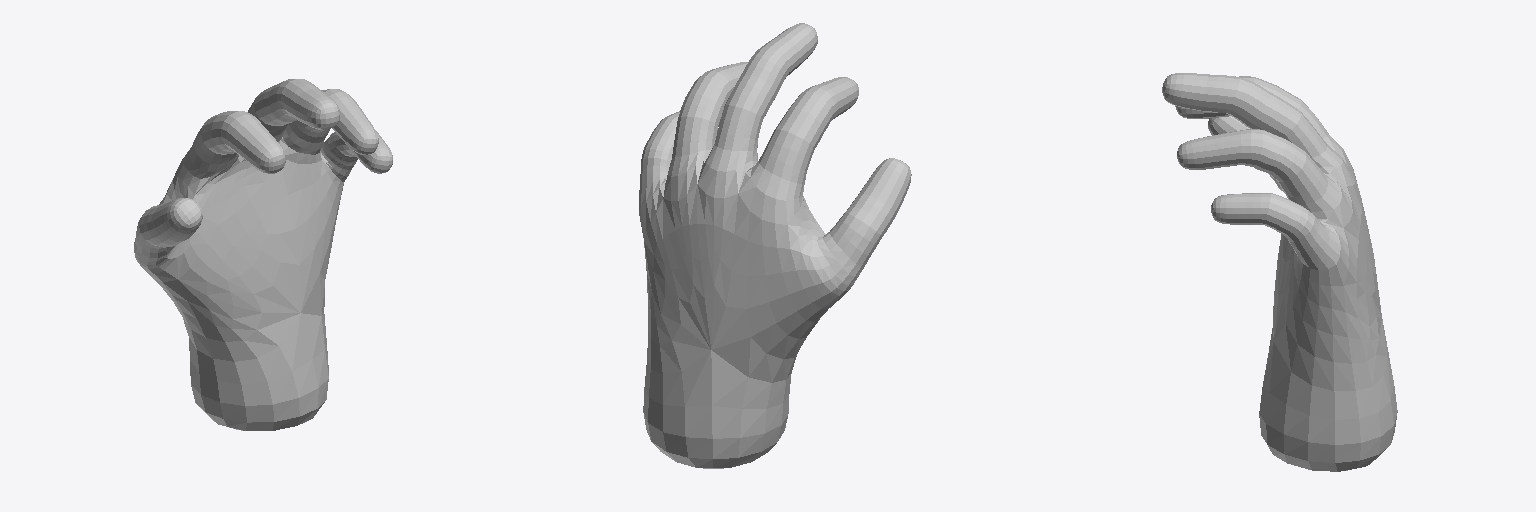
File: handanimatsion25.obj
3 renders of one model, left to right at view 1: azimuth 30°, elevation 25°; view 2: azimuth 150°, elevation 25°; view 3: azimuth 270°, elevation 25°, orthographic.
Parts seen in each view (by area): view 1: Cube; view 2: Cube; view 3: Cube.
Boxes of the visible parts, box(x1,y1,x2,y2) form: Cube: box(134, 79, 392, 430); Cube: box(639, 23, 911, 468); Cube: box(1162, 73, 1397, 471).
Bounding box in the file's own units: 3.4 × 5.34 × 3.